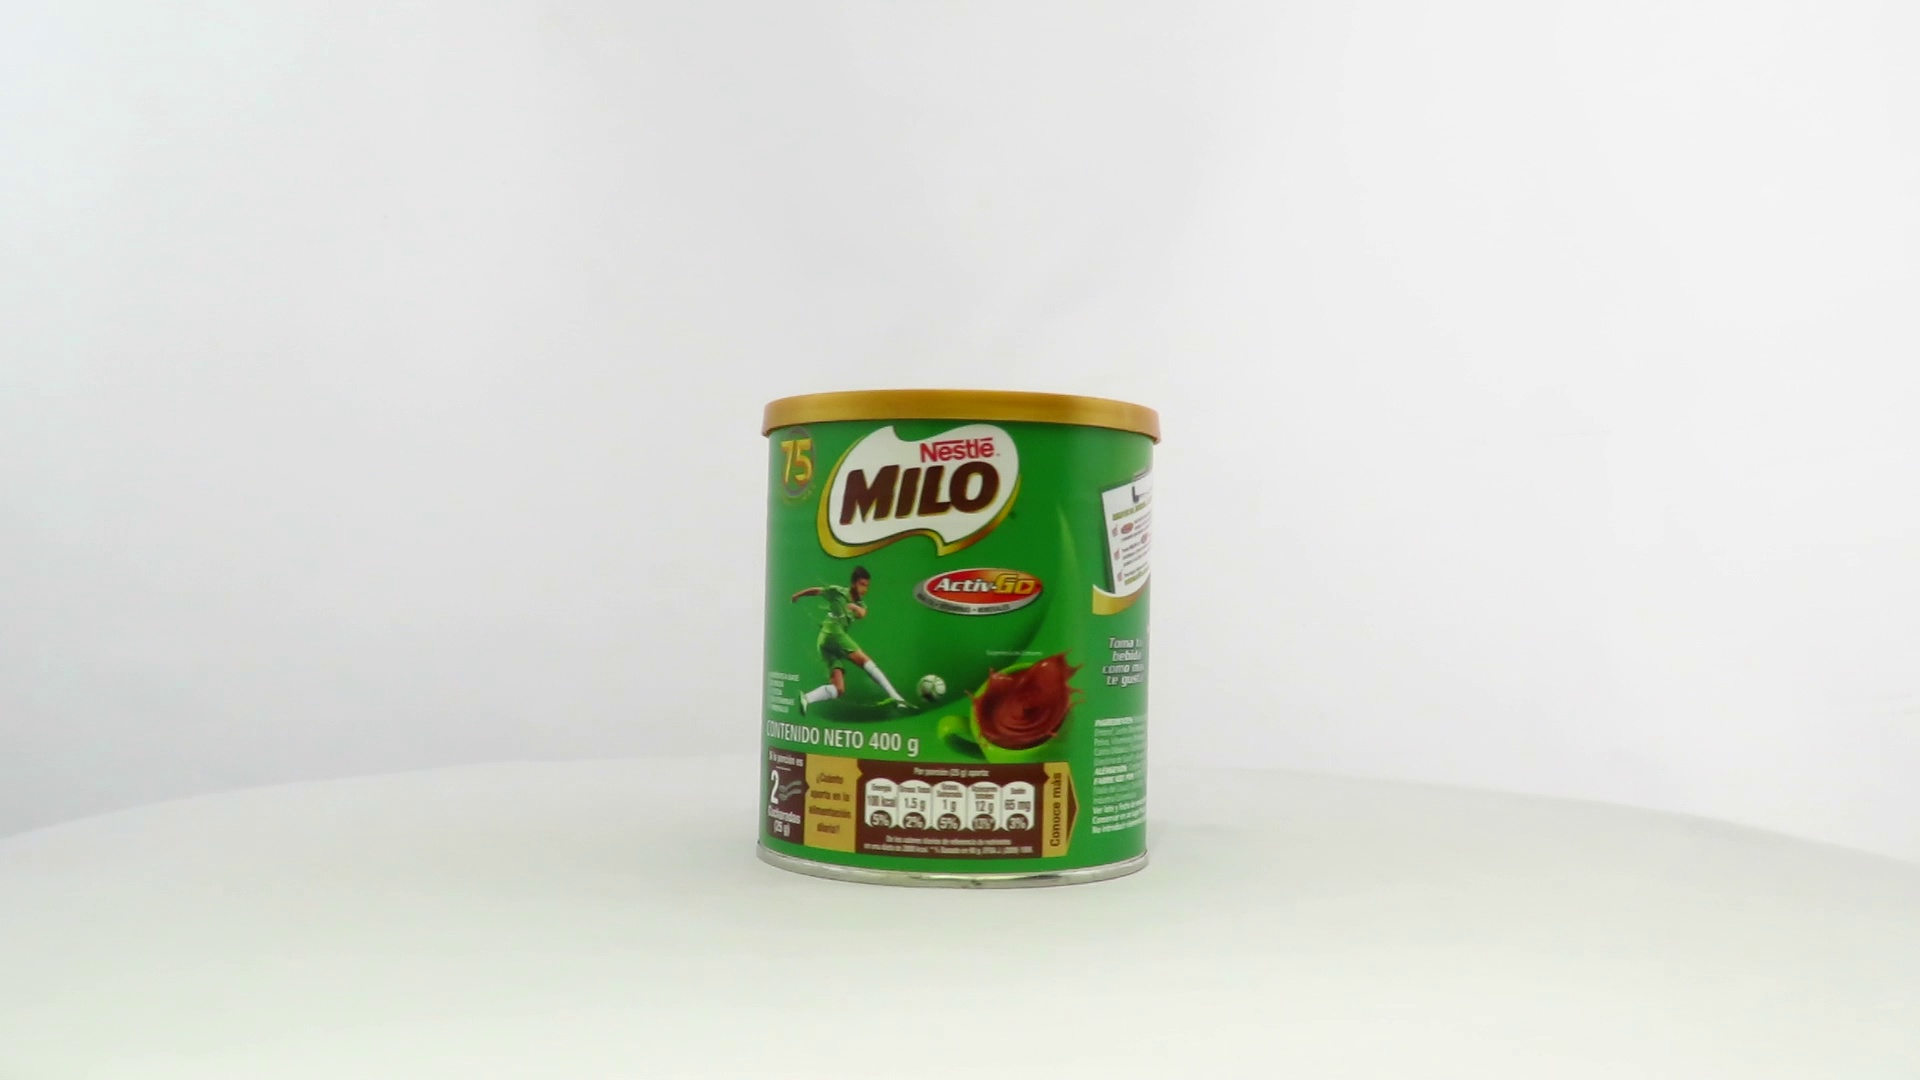COL0170203LAT40000: (752, 384, 1167, 895)
